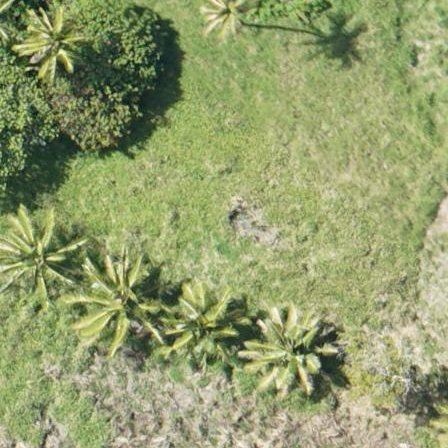palm_tree: (246, 306, 320, 385), (86, 261, 155, 335), (1, 215, 67, 289), (167, 287, 232, 357), (24, 5, 85, 76), (201, 1, 249, 41)
